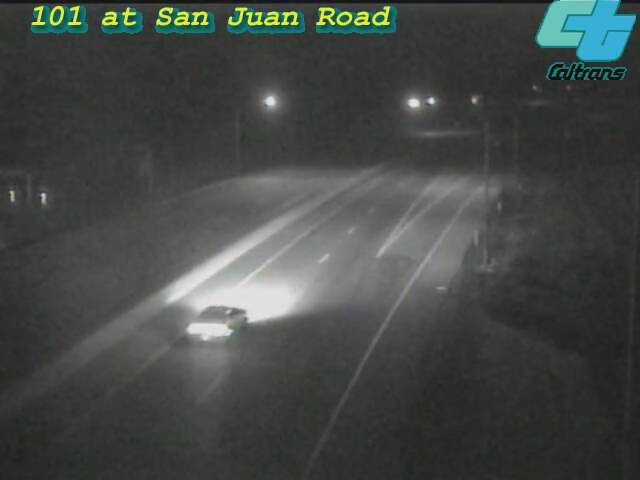vehicle: (178, 279, 258, 359)
